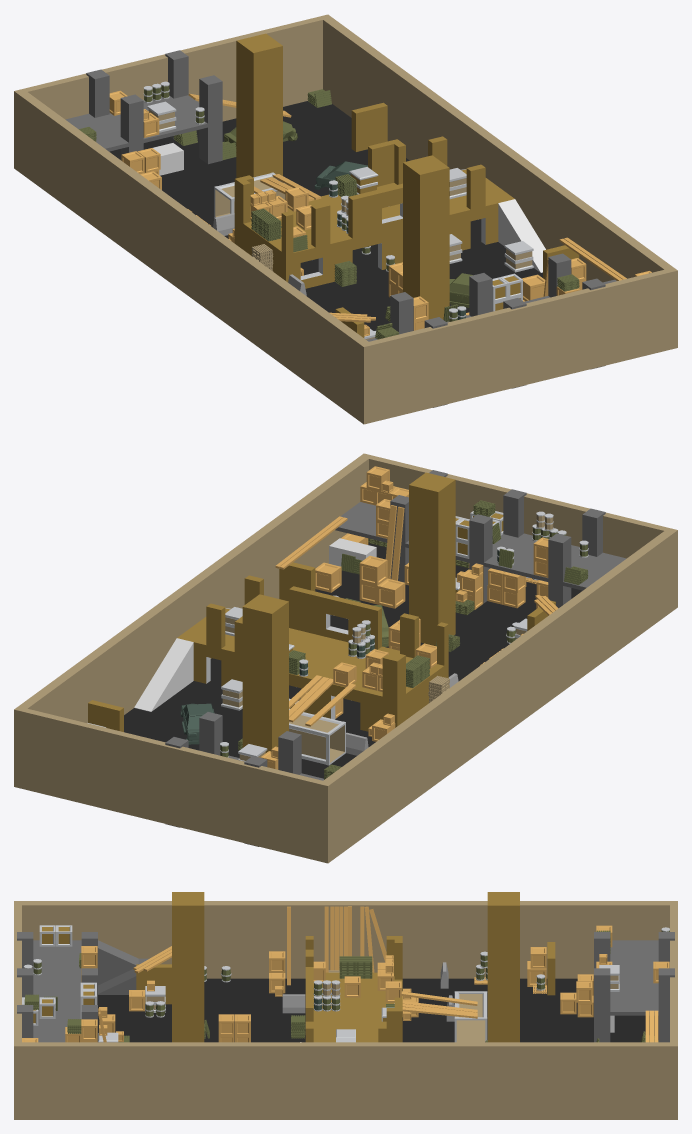
Rendered from outpost.glb.
The picture shows the model from 3 angles, top to bottom: view 1: azimuth 30°, elevation 25°; view 2: azimuth 150°, elevation 25°; view 3: azimuth 270°, elevation 25°; orthographic projection. The views are drawn at different scales.
Visible parts, largest first — view 1: Cube.005_0, Cube_0, Plane_0, up2_0, Box_0, obj.000_0, Cube.005_1, Cube.001_0, Barrel.013_0; view 2: Cube.005_0, Cube_0, Box_0, up2_0, Plane_0, obj.000_0, Cube.005_1, Cube.001_0, Barrel.013_0; view 3: Cube.005_0, Cube_0, Plane_0, up2_0, Box_0, Cube.005_1, obj.000_0, Cube.029_0.
Part boxes in pixels (x1,y1,x2,y2): Cube.005_0: (14, 14, 677, 424); Cube_0: (234, 33, 579, 337); Plane_0: (110, 101, 542, 330); up2_0: (65, 50, 616, 407); Box_0: (109, 90, 651, 336); obj.000_0: (79, 85, 579, 339); Cube.005_1: (143, 81, 533, 339); Cube.001_0: (153, 143, 545, 272); Barrel.013_0: (314, 161, 465, 319); Cube.005_0: (14, 453, 677, 863); Cube_0: (88, 472, 555, 752); Box_0: (260, 466, 558, 769); up2_0: (165, 470, 626, 846); Plane_0: (124, 543, 581, 778); obj.000_0: (220, 500, 588, 779); Cube.005_1: (87, 511, 588, 765); Cube.001_0: (134, 538, 376, 711); Barrel.013_0: (180, 550, 499, 744); Cube.005_0: (14, 901, 677, 1119); Cube_0: (33, 892, 555, 1042); Plane_0: (98, 978, 658, 1042); up2_0: (17, 932, 674, 1042); Box_0: (22, 906, 669, 1042); Cube.005_1: (22, 925, 669, 1042); obj.000_0: (24, 930, 669, 1042); Cube.029_0: (282, 962, 454, 1021).
Size of the model in its own units: 34 by 16.2 by 65.6.
